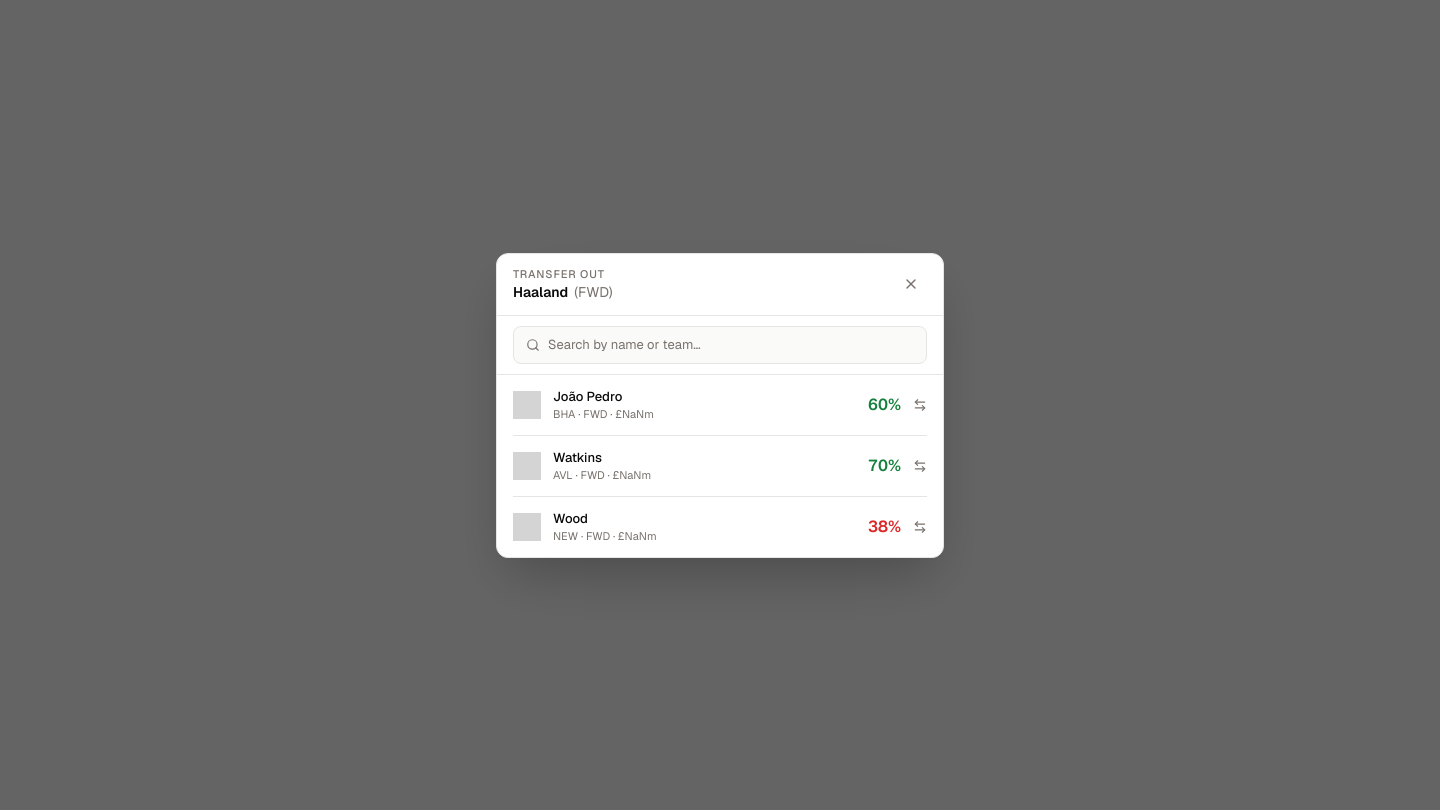
Test: TransferModal › filters candidates by search query (team)
Expected: the text "Watkins" is shown, [553, 448, 602, 466]
Type "bha" into the search field at (731, 345), box [548, 335, 914, 354]
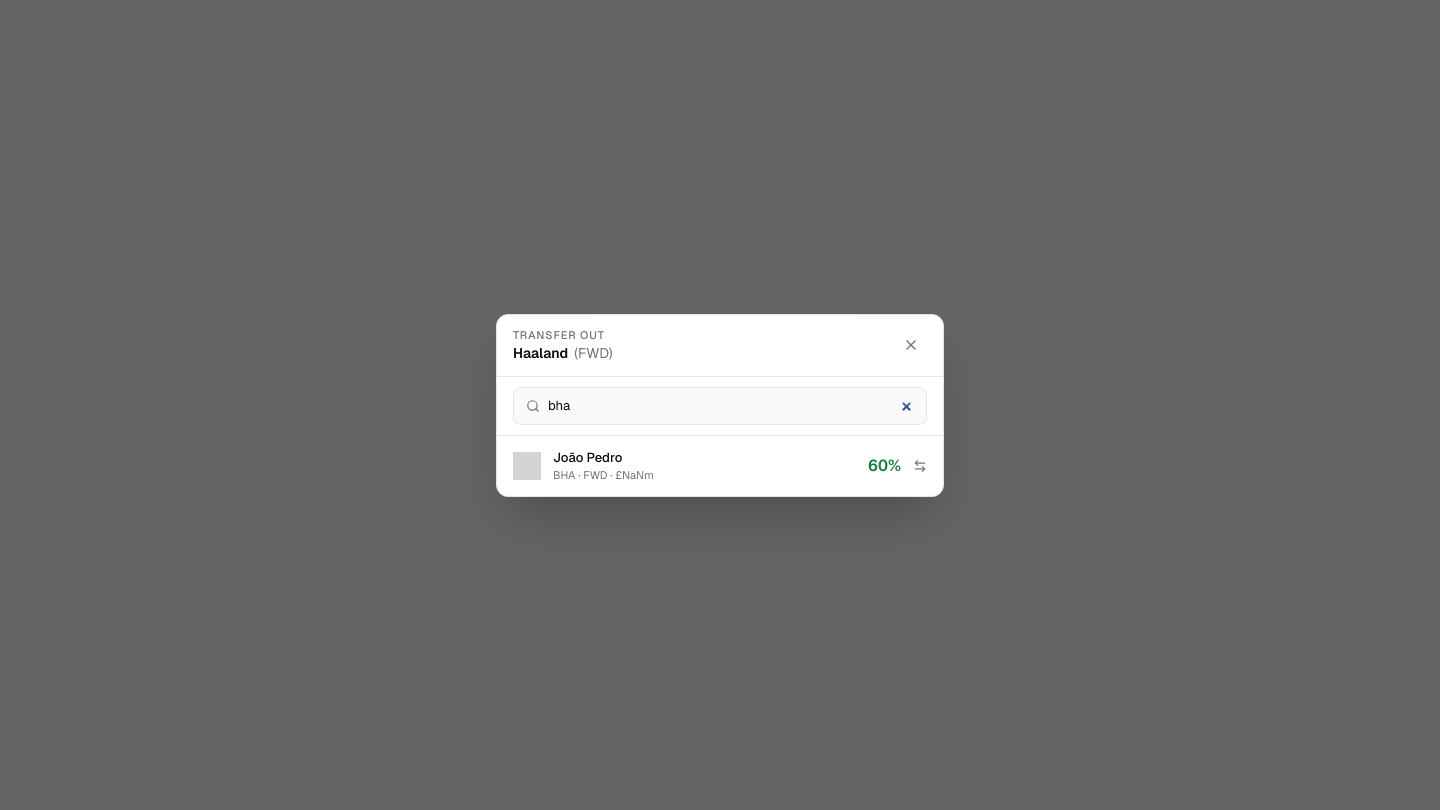
Expected: the text "João Pedro" is shown, [553, 448, 622, 466]
Result: the button "Watkins" is gone
